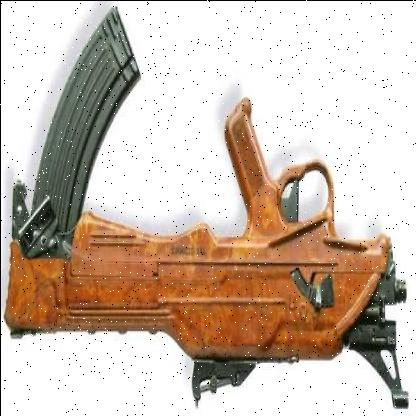rifle: (3, 20, 409, 414)
